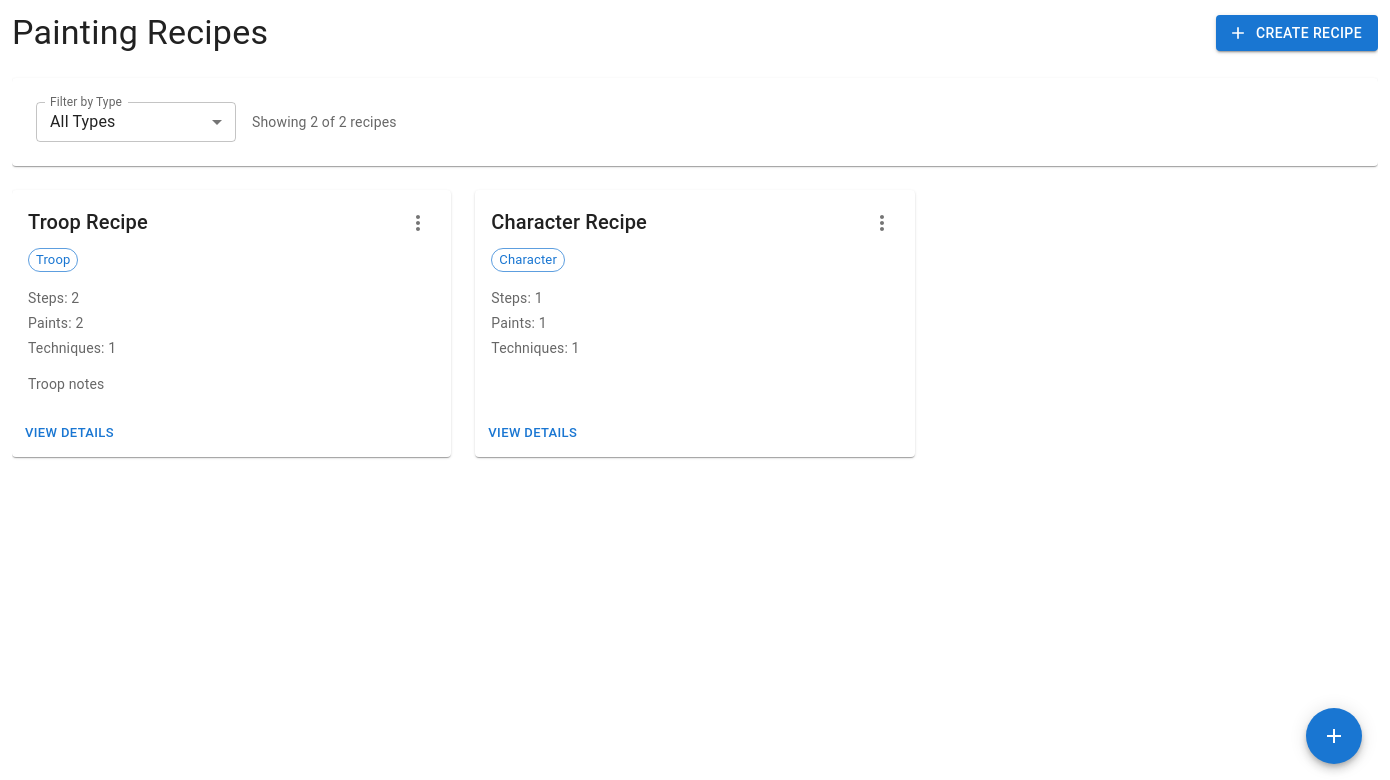
Test case: RecipeList › filters recipes by type
This screenshot has width=1390, height=780.
Check: the text "Showing 2 of 2 recipes" is shown, box [252,112,397,132]
// Filter by Troop
Step 1. Click the dropdown named "Filter by Type" → (83, 122), box [50,112,116,132]
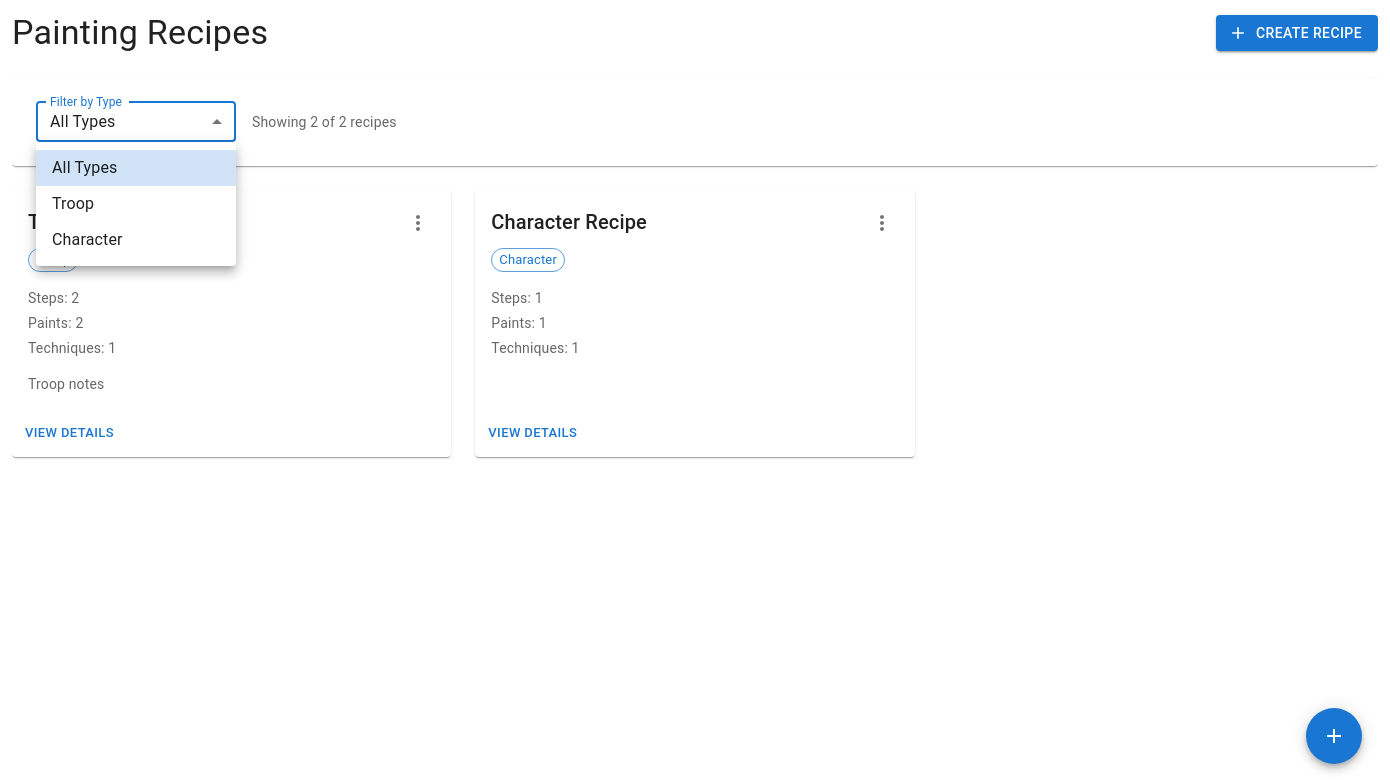
Step 2. Click the option "Troop" → (73, 204), box [52,194,94,213]
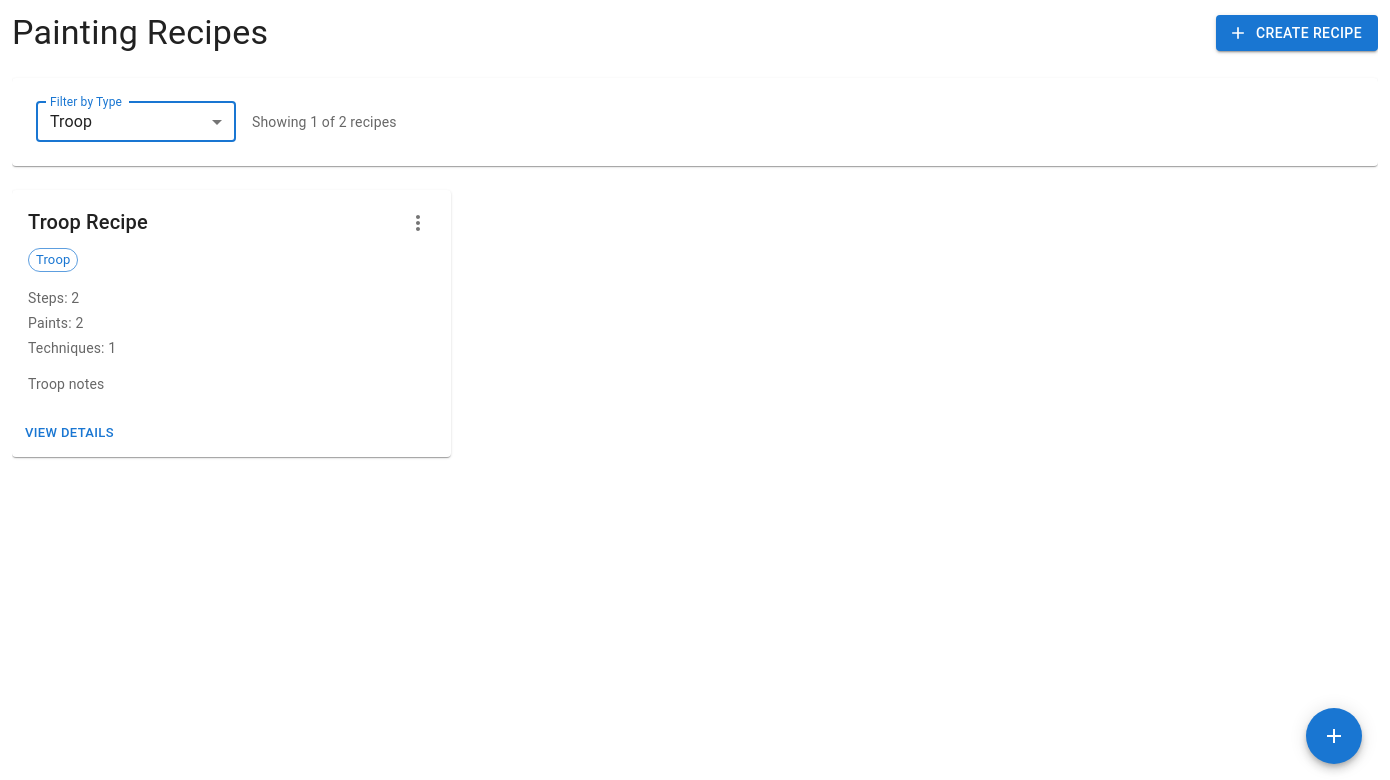
Check: the text "Showing 1 of 2 recipes" is shown, box [252,112,397,132]
